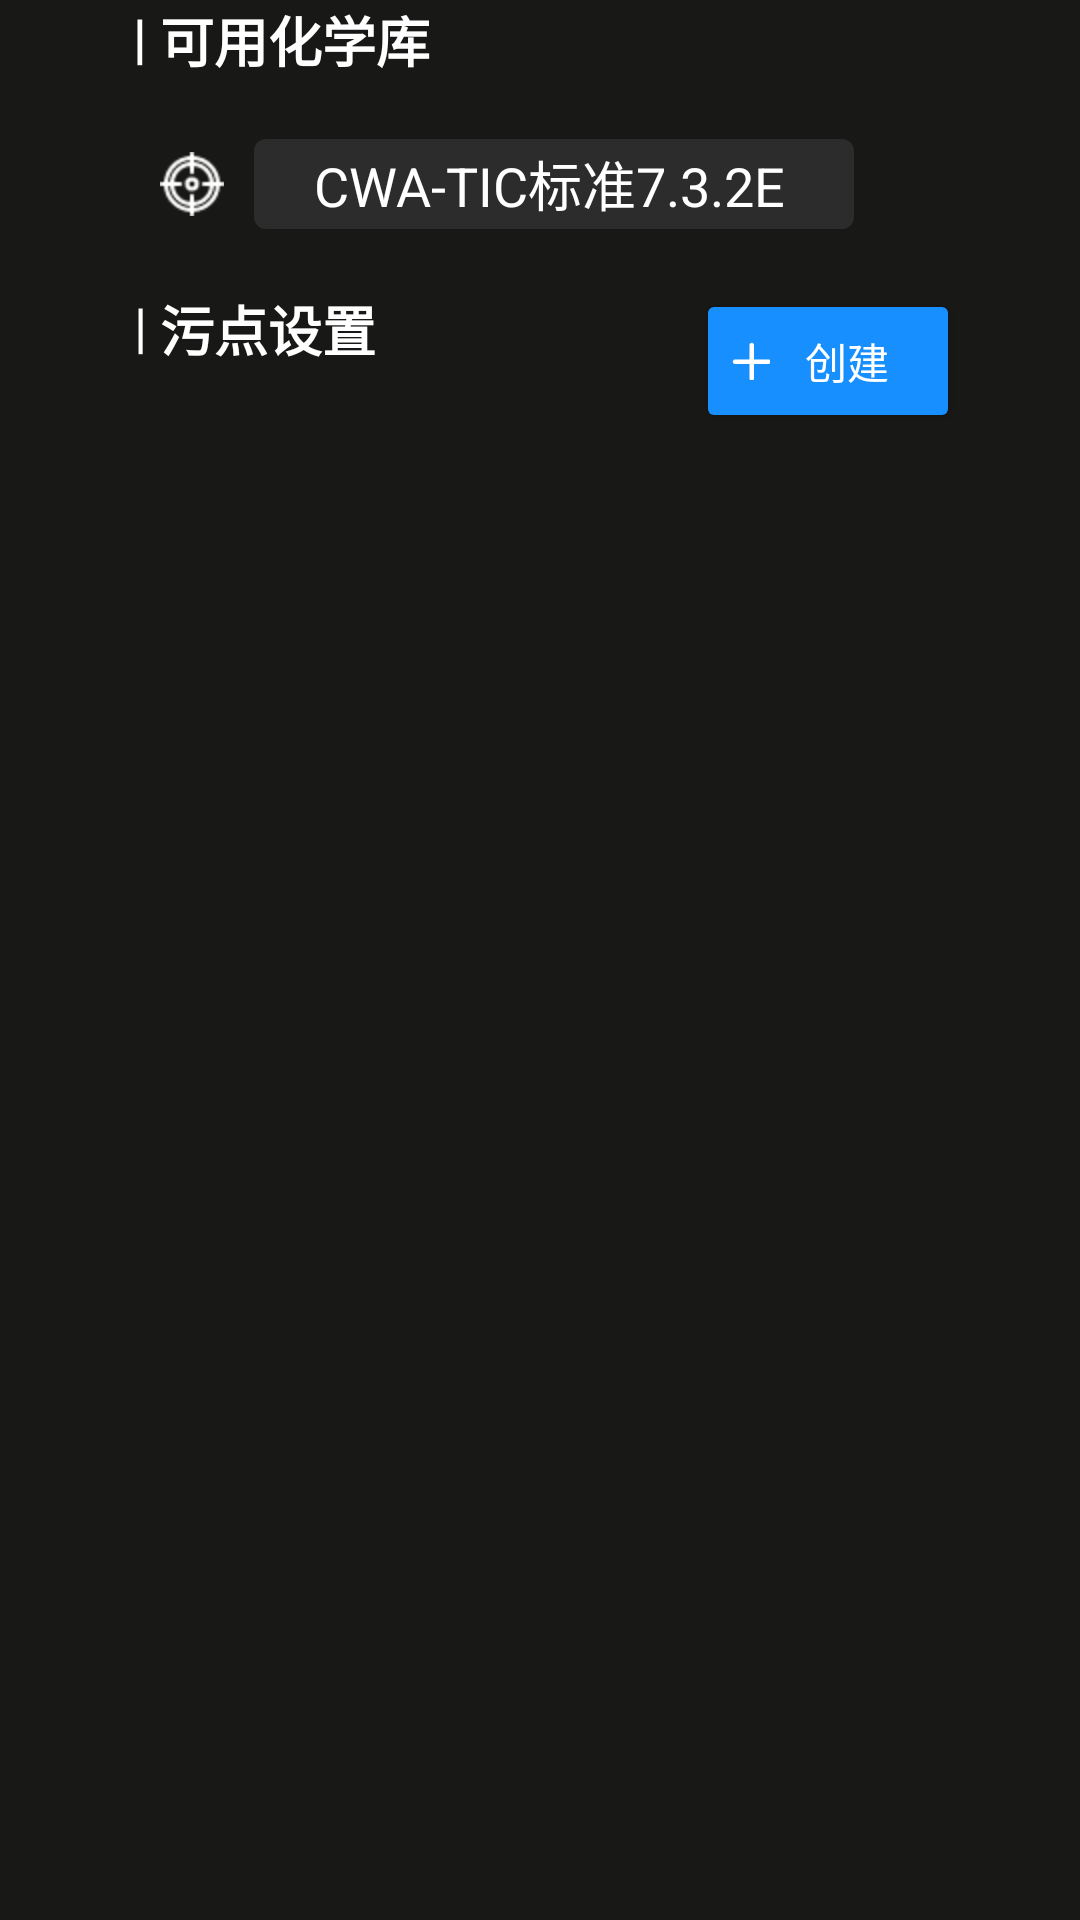

Where to tap for icons on this 1080px x 1920px app screen, as [x,y]:
baxin: [192,184]
